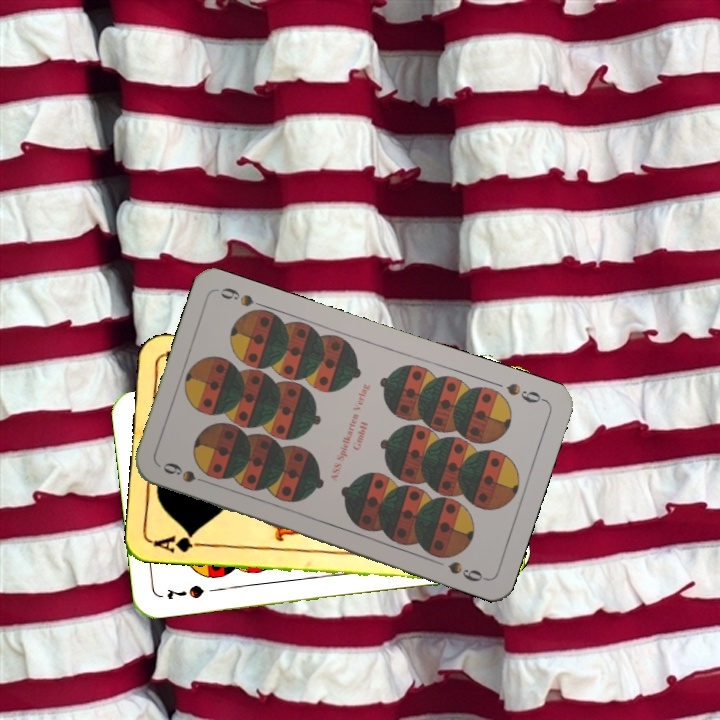GA: (149, 529, 209, 555)
S7: (163, 581, 206, 603)
S9: (159, 458, 215, 488), (502, 379, 548, 406)
